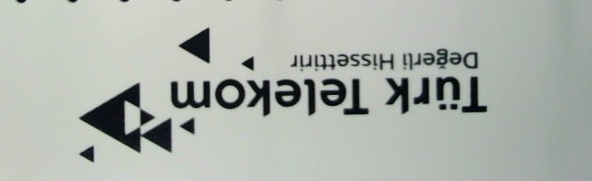AQ_TURKTelekom: (61, 22, 488, 167)
